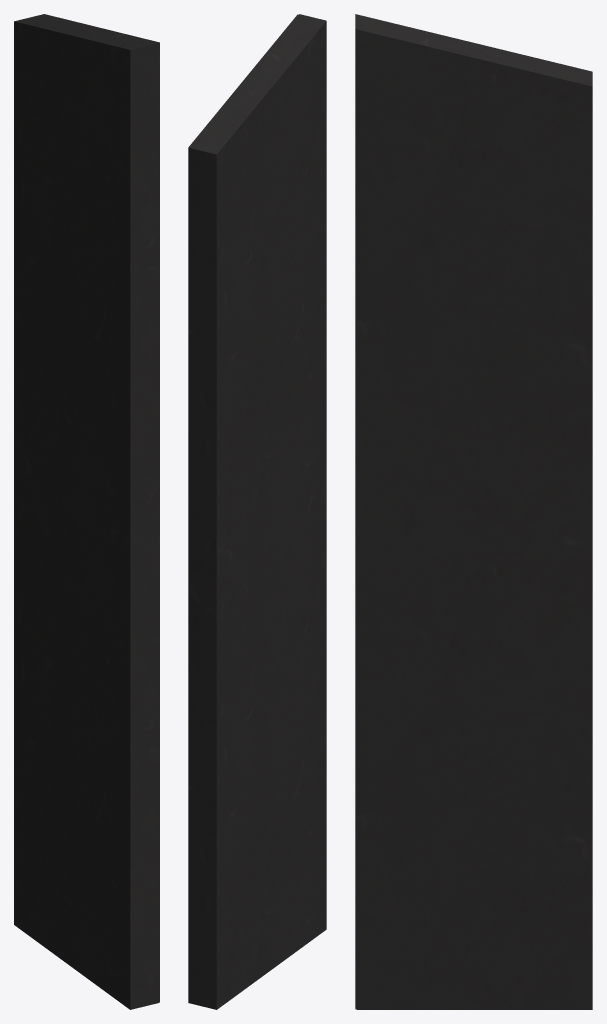
File: A13.1.1 H.WALL. PNL 4560 E11.fbx
The picture shows the model from 3 angles, left to right: view 1: azimuth 30°, elevation 25°; view 2: azimuth 150°, elevation 25°; view 3: azimuth 270°, elevation 25°; orthographic projection. The views are drawn at different scales.
Visible parts, largest first — view 1: Model; view 2: Model; view 3: Model.
Part boxes in pixels (x1,y1,x2,y2): Model: (14, 14, 159, 1009); Model: (188, 14, 326, 1009); Model: (355, 14, 592, 1009).
Bounding box in the file's own units: 150 × 4560 × 1000.
